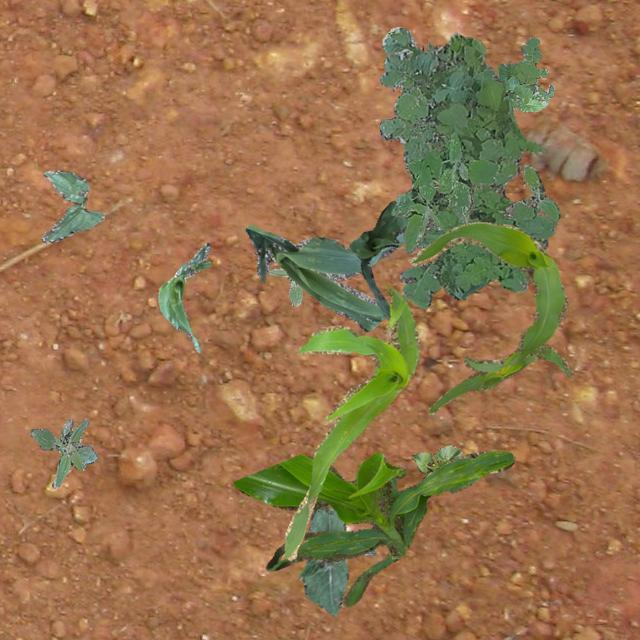crop: (232, 450, 514, 606), (284, 284, 418, 560), (408, 220, 572, 414), (244, 224, 404, 330), (348, 200, 406, 318), (158, 242, 210, 352), (298, 506, 348, 614), (41, 170, 104, 242), (411, 444, 462, 478)
weed: (378, 25, 556, 308), (391, 132, 498, 252), (29, 418, 96, 488), (496, 36, 554, 110), (502, 163, 560, 220), (268, 266, 300, 304), (362, 548, 376, 554), (426, 41, 432, 50)
